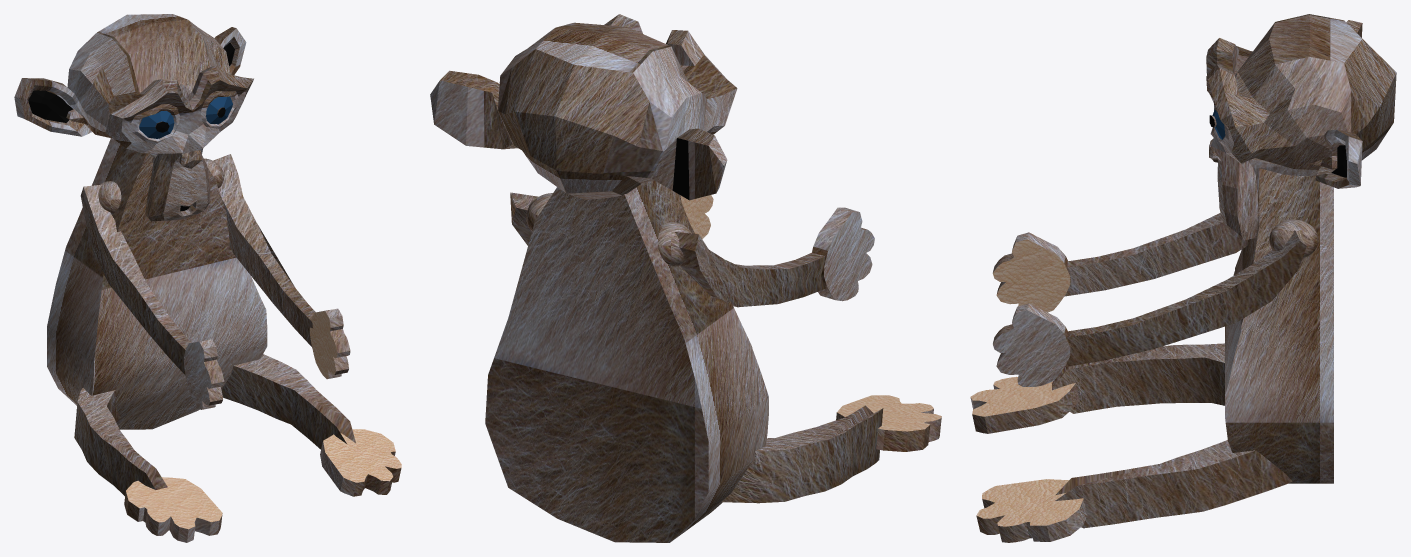
File: monkeyDriver.fbx
3 renders of one model, left to right at view 1: azimuth 30°, elevation 25°; view 2: azimuth 150°, elevation 25°; view 3: azimuth 270°, elevation 25°, orthographic. The views are drawn at different scales.
Parts seen in each view (by area): view 1: pPlane1, Suzanne, pPlane14, pPlane13, pSphere4, pSphere3; view 2: pPlane1, Suzanne, pPlane13, pSphere4, pSphere3; view 3: Suzanne, pPlane1, pPlane14, pSphere3, pPlane13, pSphere4.
Part boxes in pixels (x1,y1,x2,y2): pPlane1: (47,138,267,429); Suzanne: (14,14,253,221); pPlane14: (221,354,401,496); pPlane13: (74,388,222,542); pSphere4: (80,181,224,409); pSphere3: (204,154,350,379); pPlane1: (485,180,768,542); Suzanne: (430,14,737,201); pPlane13: (721,395,941,503); pSphere4: (657,207,874,307); pSphere3: (510,192,713,245); Suzanne: (1206,14,1396,240); pPlane1: (1225,168,1333,483); pPlane14: (976,440,1292,542); pSphere3: (993,219,1318,386); pPlane13: (970,343,1224,433); pSphere4: (992,213,1247,312).
Size of the model in its own units: 3.16 by 4.43 by 3.81.
4 materials, 2 textured.
